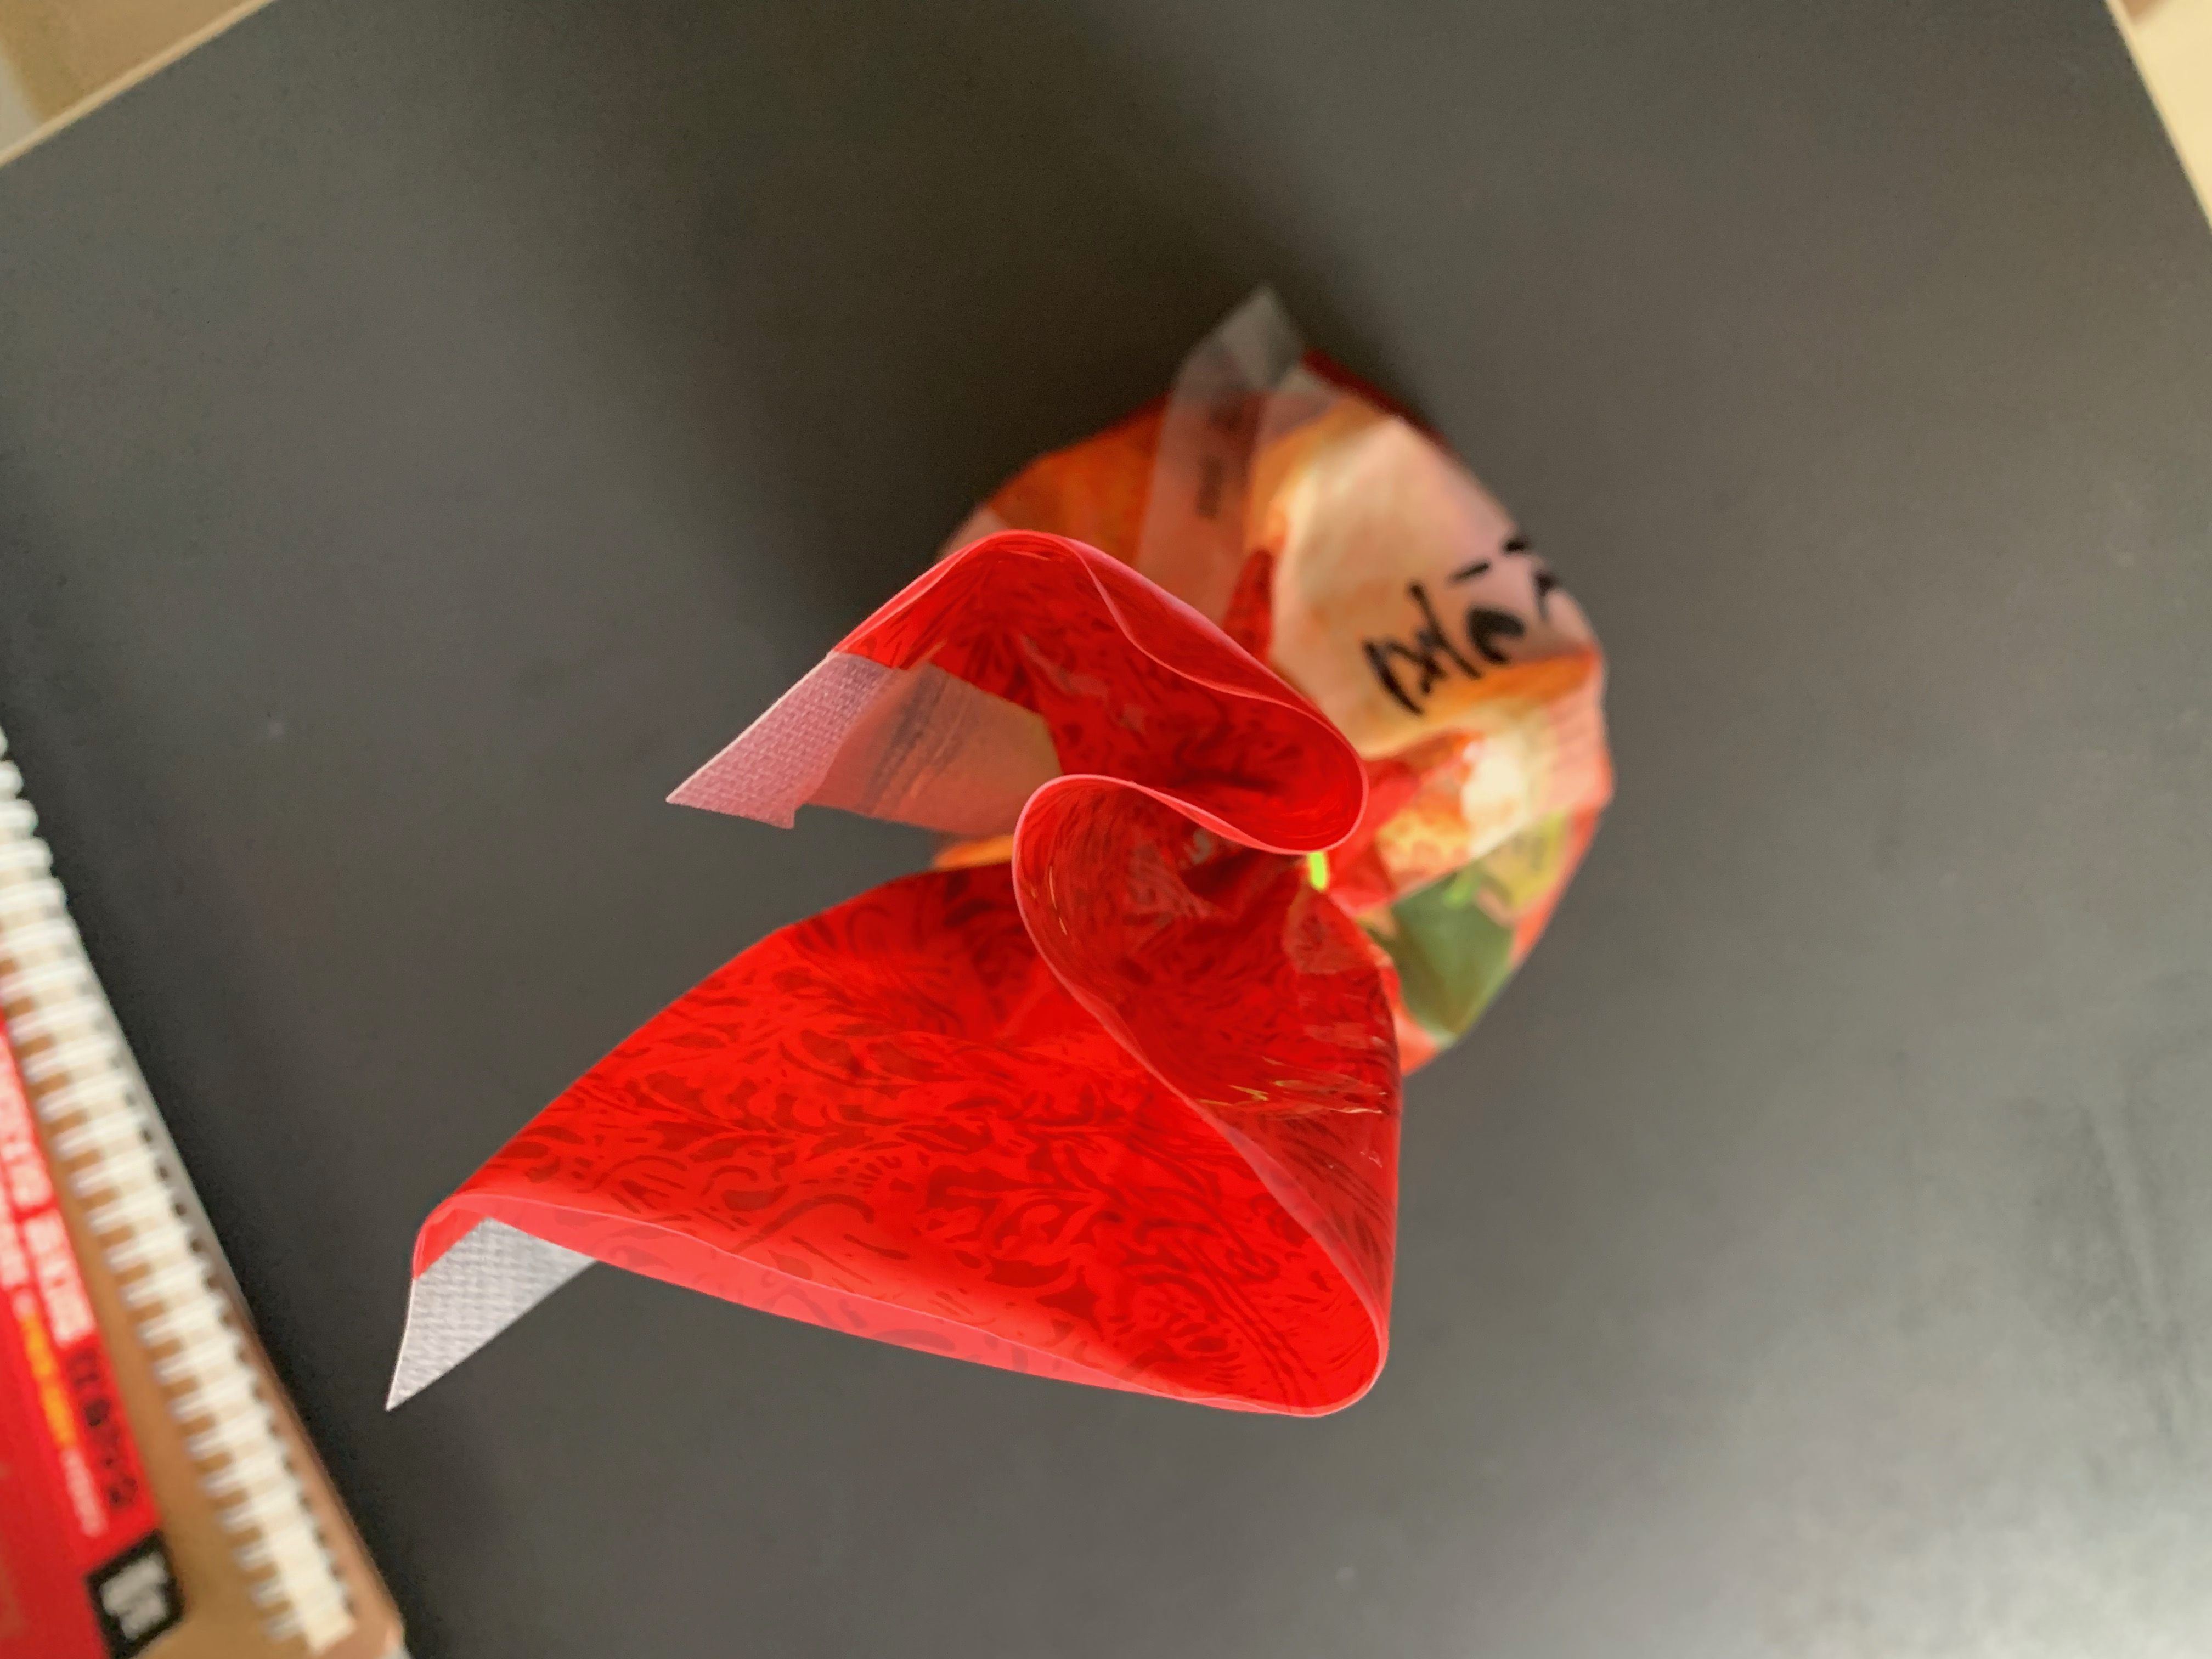kimchi: (458, 356, 1615, 1420)
